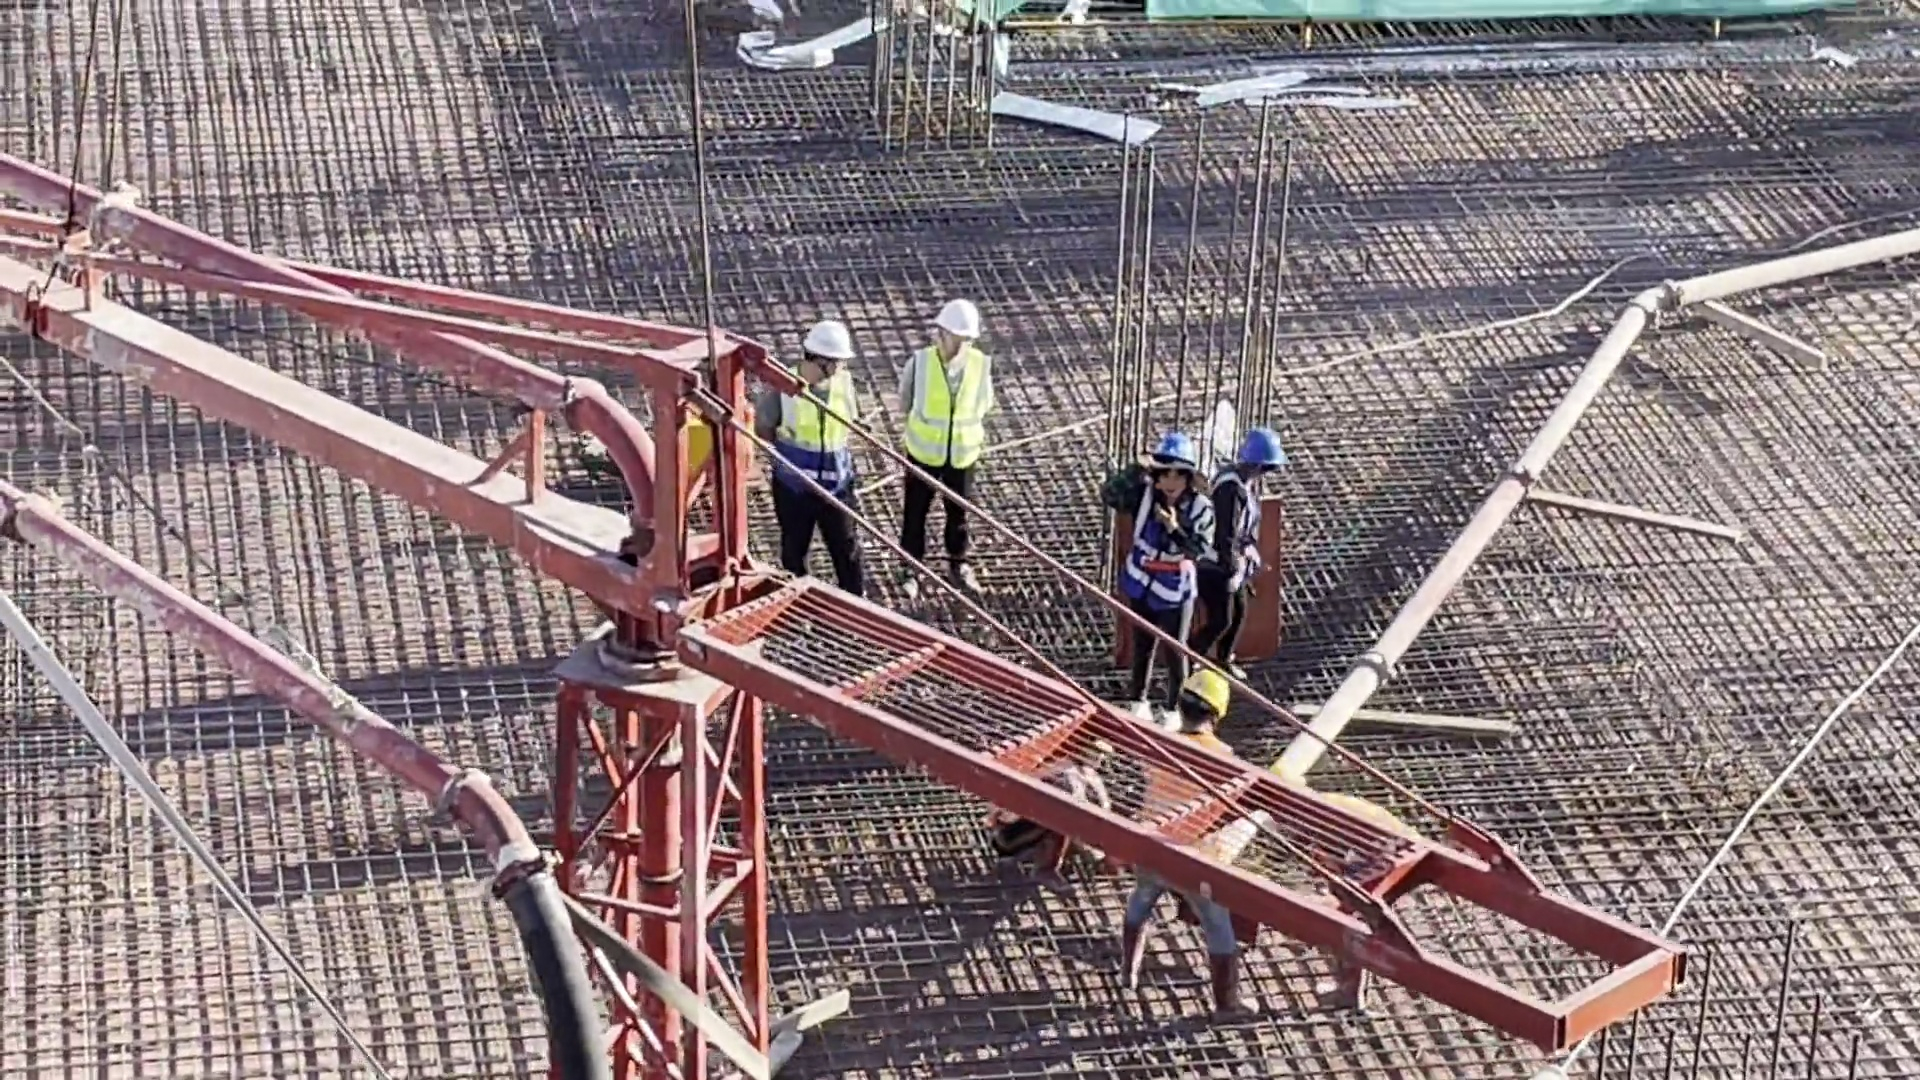helmet: (808, 315, 855, 361), (1158, 433, 1201, 463), (944, 304, 980, 342), (1190, 664, 1221, 703), (1244, 426, 1273, 460)
person: (1109, 655, 1258, 1041), (766, 300, 882, 617), (886, 290, 991, 606), (1097, 427, 1201, 735), (1199, 428, 1285, 685)
vest: (909, 350, 988, 471), (777, 385, 855, 492), (1138, 490, 1188, 596), (1217, 479, 1259, 573)
